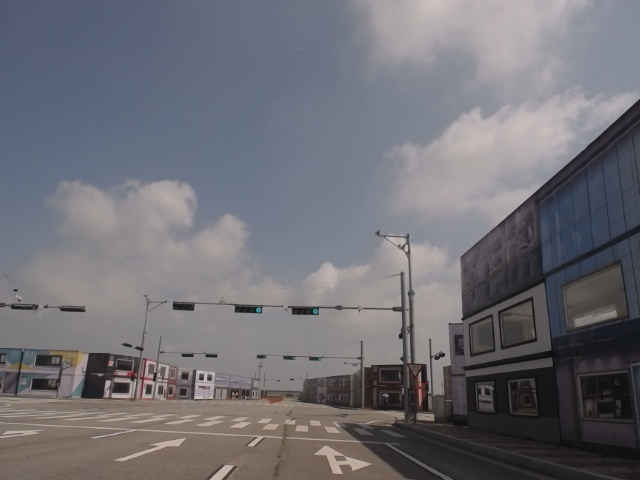straight_green_4: (234, 305, 264, 315), (292, 308, 320, 314)
